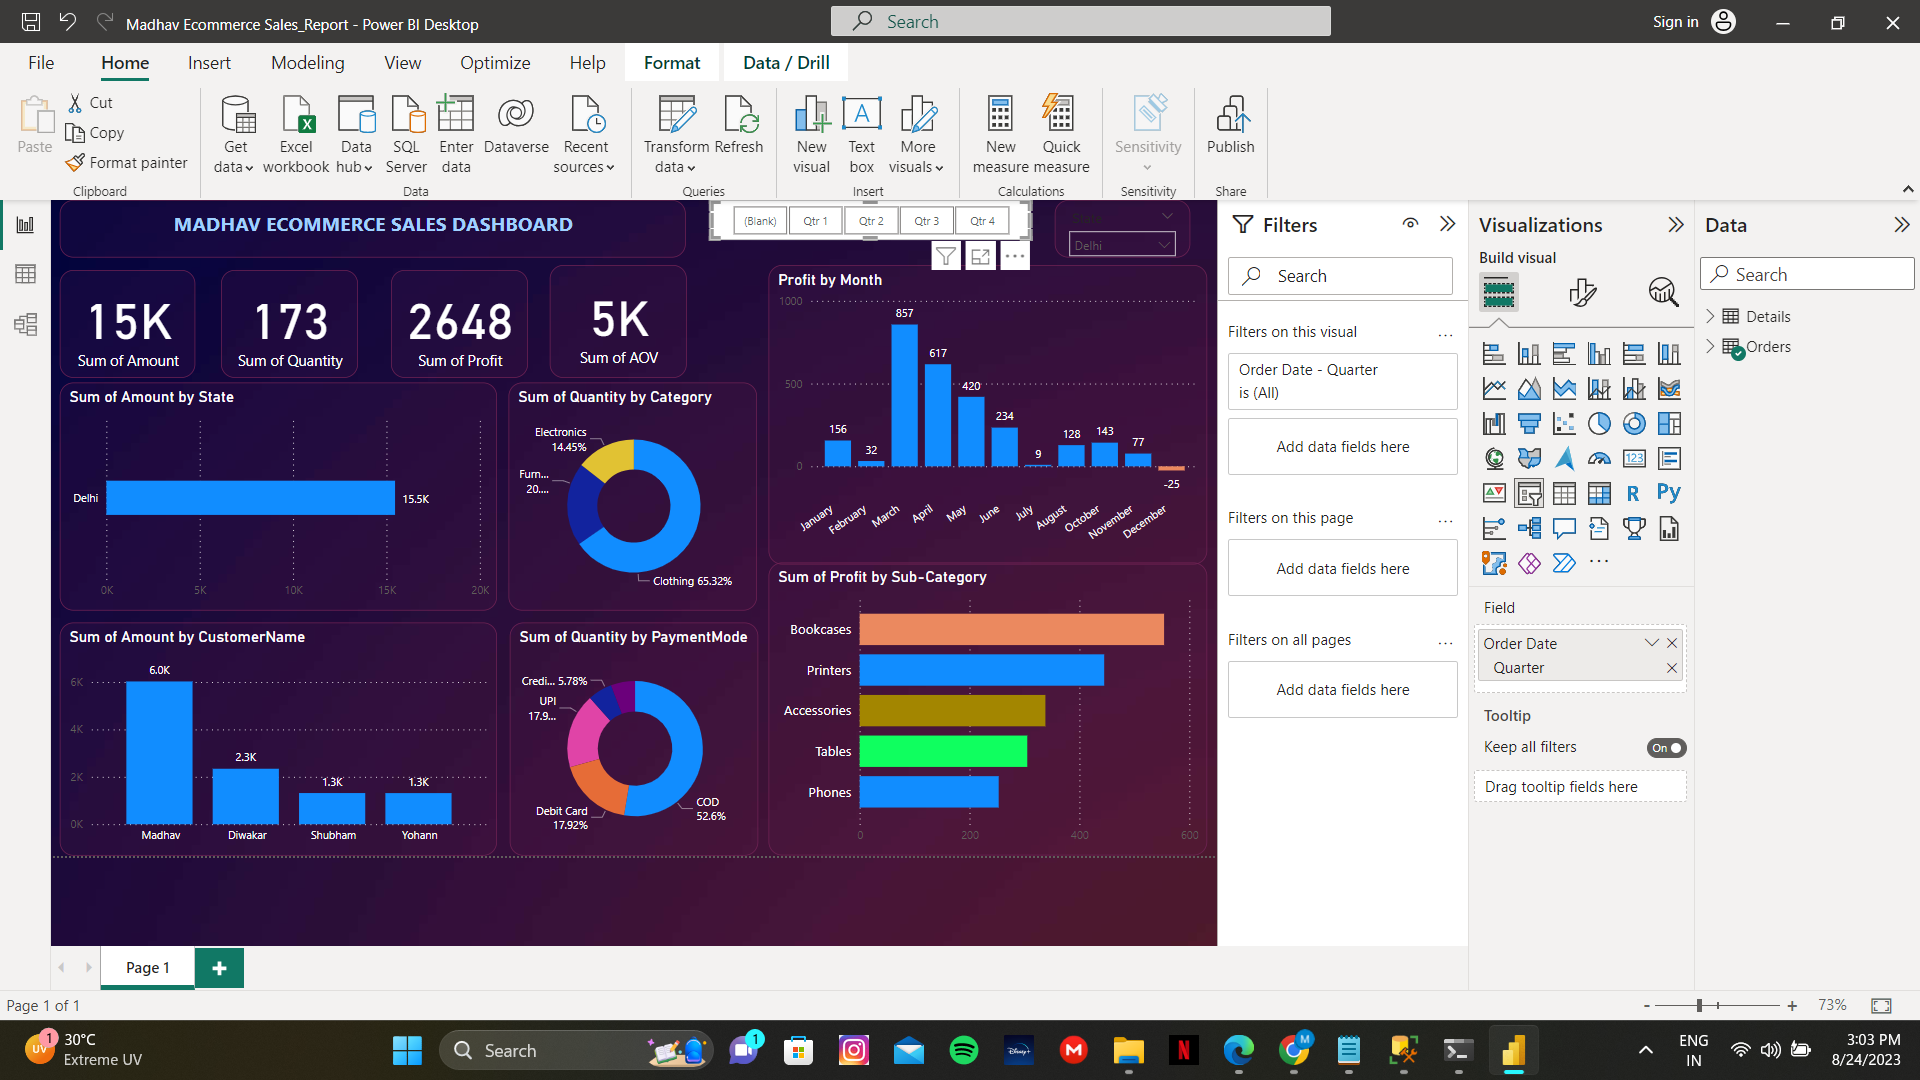

The page's visual inventory and layout, read from the dashboard file:
{"tool":"powerbi","page":{"name":"Page 1","canvas":[1280,720],"ordinal":0},"visuals":[{"type":"textbox","box":[10,0,687.1,62.9],"z":0},{"type":"columnChart","title":"Profit by Month","fields":{"Y":["Sum(Details.Profit)"],"Category":["Orders.Order Date.Variation.Date Hierarchy.Month"]},"box":[787.1,71.4,481.4,328.6],"z":1000},{"type":"barChart","fields":{"Category":["Details.Sub-Category"],"Y":["Sum(Details.Profit)"]},"box":[787.1,398.6,481.4,321.4],"z":2000},{"type":"donutChart","fields":{"Category":["Details.Category"],"Y":["Sum(Details.Quantity)"]},"box":[502.9,200,272.9,250],"z":3000},{"type":"donutChart","fields":{"Y":["Sum(Details.Quantity)"],"Category":["Details.PaymentMode"]},"box":[504.3,464.3,272.9,255.7],"z":4000},{"type":"card","fields":{"Values":["Sum(Details.Amount)"]},"box":[10,77.1,148.6,118.6],"z":5000},{"type":"card","fields":{"Values":["Sum(Details.Quantity)"]},"box":[187.1,77.1,150,118.6],"z":6000},{"type":"card","fields":{"Values":["Sum(Details.Profit)"]},"box":[372.9,77.1,150,118.6],"z":7000},{"type":"card","fields":{"Values":["Sum(Details.AOV)"]},"box":[547.1,71.4,150,124.3],"z":8000},{"type":"barChart","fields":{"Category":["Orders.State"],"Y":["Sum(Details.Amount)"]},"box":[10,200,480,250],"z":9000},{"type":"columnChart","fields":{"Category":["Orders.CustomerName"],"Y":["Sum(Details.Amount)"]},"box":[10,464.3,480,255.7],"z":10000},{"type":"slicer","fields":{"Values":["Orders.Order Date.Variation.Date Hierarchy.Quarter"]},"box":[722.9,0,352.9,44.3],"z":11000},{"type":"slicer","fields":{"Values":["Orders.State"]},"box":[1101.4,0,148.6,62.9],"z":11001}]}

Visuals, with their boxes on the page's 1280x720 design canvas (x1, y1, x2, y2). These are canvas units, not pixel positions in the 1920x1080 screenshot, which may show the page scaled, cropped or inside an application window:
textbox: [10, 0, 697, 63]
"Profit by Month" columnChart: [787, 71, 1268, 400]
barChart - Details.Sub-Category x Sum(Details.Profit): [787, 399, 1268, 720]
donutChart - Details.Category x Sum(Details.Quantity): [503, 200, 776, 450]
donutChart - Sum(Details.Quantity) x Details.PaymentMode: [504, 464, 777, 720]
card - Sum(Details.Amount): [10, 77, 159, 196]
card - Sum(Details.Quantity): [187, 77, 337, 196]
card - Sum(Details.Profit): [373, 77, 523, 196]
card - Sum(Details.AOV): [547, 71, 697, 196]
barChart - Orders.State x Sum(Details.Amount): [10, 200, 490, 450]
columnChart - Orders.CustomerName x Sum(Details.Amount): [10, 464, 490, 720]
slicer - Orders.Order Date.Variation.Date Hierarchy.Quarter: [723, 0, 1076, 44]
slicer - Orders.State: [1101, 0, 1250, 63]
